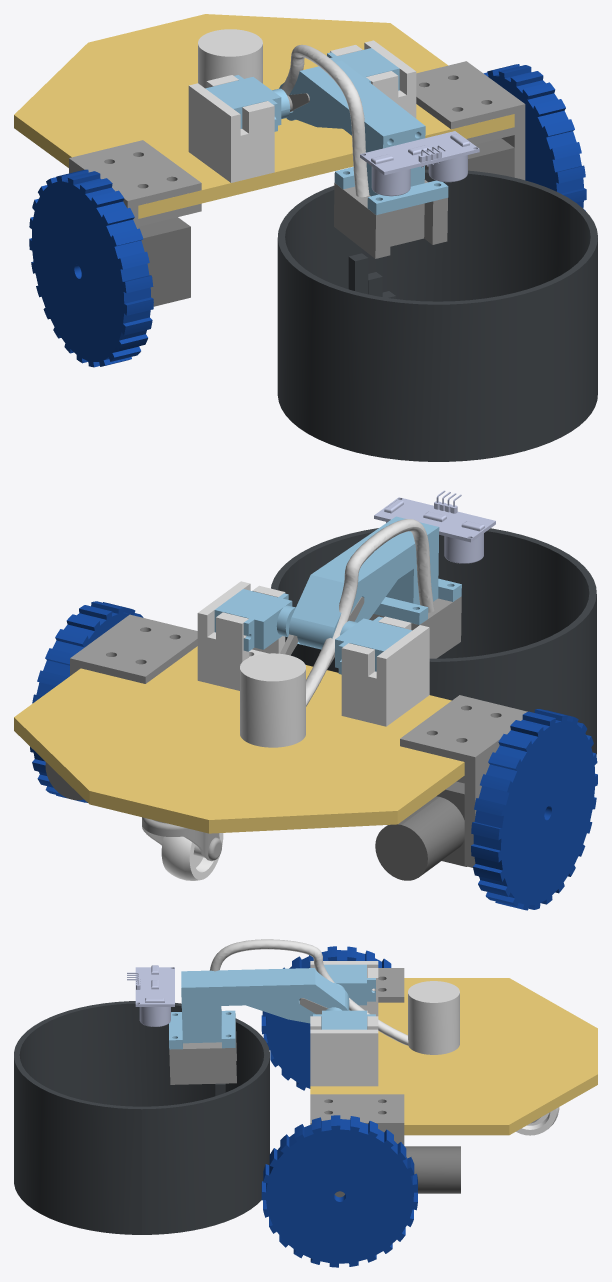
The model's file is otv.glb.
3 views of the same model, one above another, from view 1: azimuth 30°, elevation 25°; view 2: azimuth 150°, elevation 25°; view 3: azimuth 270°, elevation 25° (orthographic). The views are drawn at different scales.
Visible parts, largest first — view 1: m6, m0, m11, m9, m18, m12, m3, m8, m15, m7, m2, m4 (+4 smaller); view 2: m0, m6, m11, m8, m9, m18, m15, m4, m3, m16, m12, m2 (+5 smaller); view 3: m6, m0, m12, m9, m8, m16, m11, m3, m7, m14, m2, m1 (+4 smaller).
Part boxes in pixels (x1,y1,x2,y2): m6: (277,169,597,461); m0: (14,14,514,218); m11: (29,169,153,367); m9: (279,60,448,215); m18: (188,75,274,182); m12: (483,64,586,210); m3: (416,61,525,180); m8: (198,29,369,197); m15: (69,140,201,228); m7: (334,180,447,258); m2: (360,131,479,196); m4: (138,217,190,306); m0: (14,646,464,833); m6: (271,528,596,755); m11: (471,709,597,910); m8: (240,519,434,747); m9: (289,516,461,649); m18: (341,616,429,726); m15: (400,695,527,867); m4: (375,781,466,880); m3: (70,614,197,683); m16: (197,581,285,690); m12: (30,601,143,802); m2: (374,490,495,563); m6: (14,1001,269,1234); m0: (310,978,597,1135); m12: (261,1115,417,1267); m9: (169,968,349,1049); m8: (209,939,459,1054); m16: (310,1016,378,1086); m11: (261,946,391,1090); m3: (310,1094,404,1145); m7: (169,1020,236,1084); m14: (334,1146,460,1197); m2: (127,965,174,1026); m1: (324,964,375,1005).
Size of the model in its own units: 0.2172 by 0.1289 by 0.2985.
